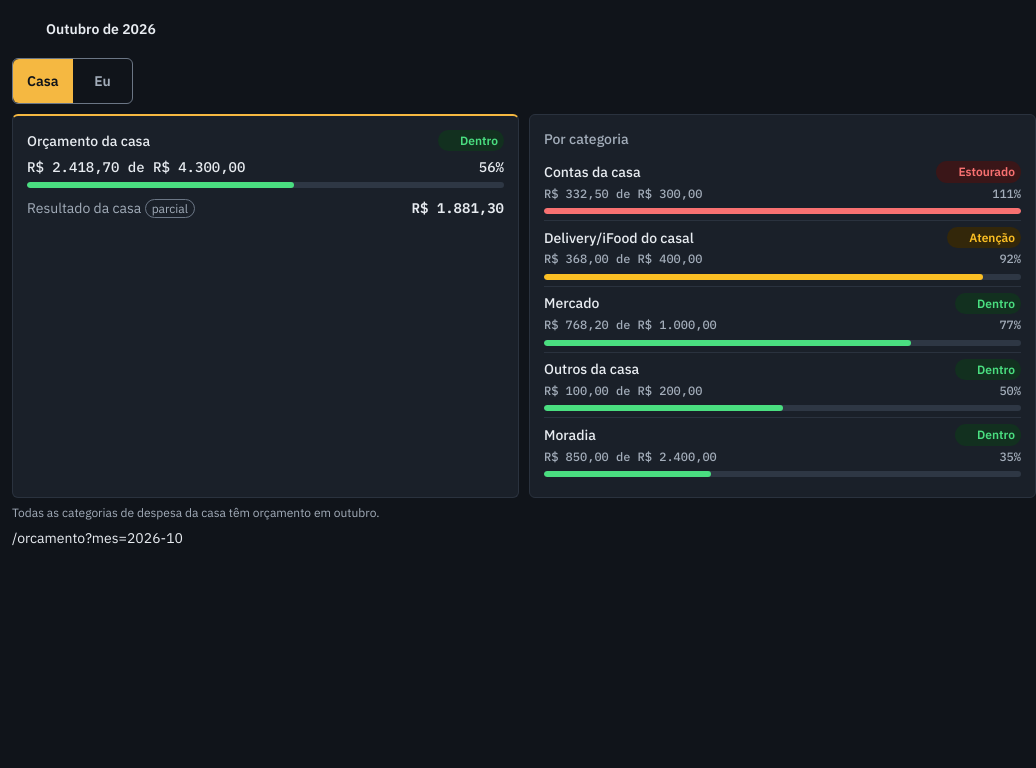
Test case: Orcamento: escopo na URL › trocar para Eu grava escopo=eu e busca o escopo individual
Click the radio button labelled "Eu": (102, 81) [94,72,111,90]
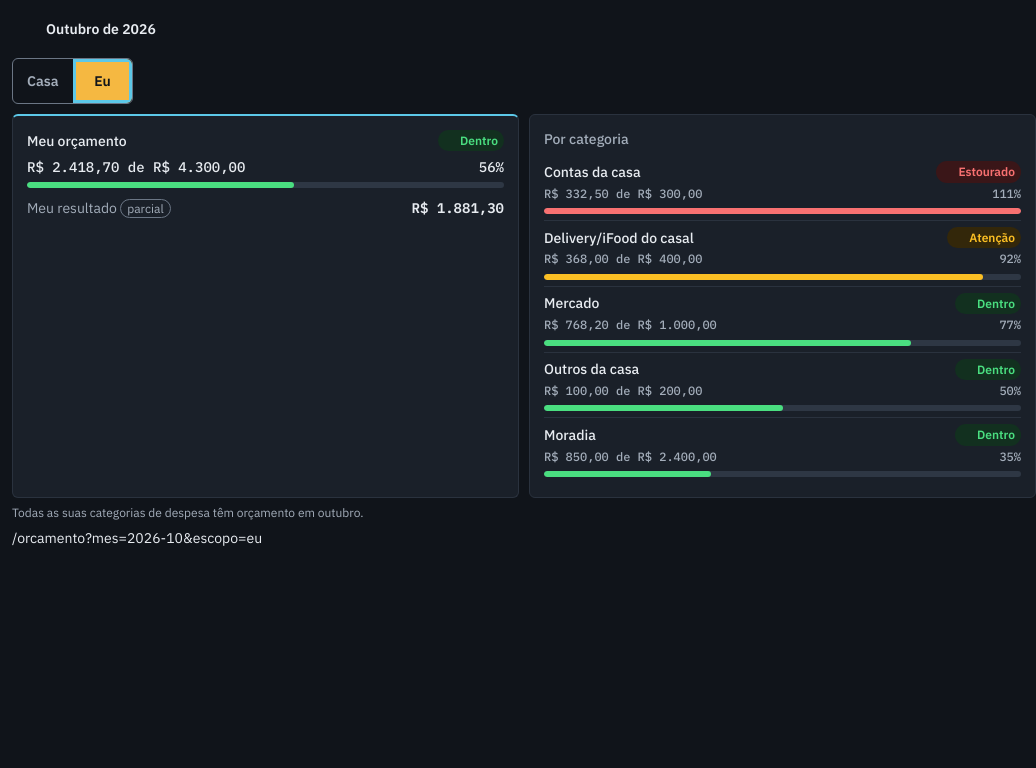
expect the text with test id "local" shows "mes=2026-10": met, box [12,529,262,547]
expect the text with test id "local" shows "escopo=eu": met, box [12,529,262,547]
